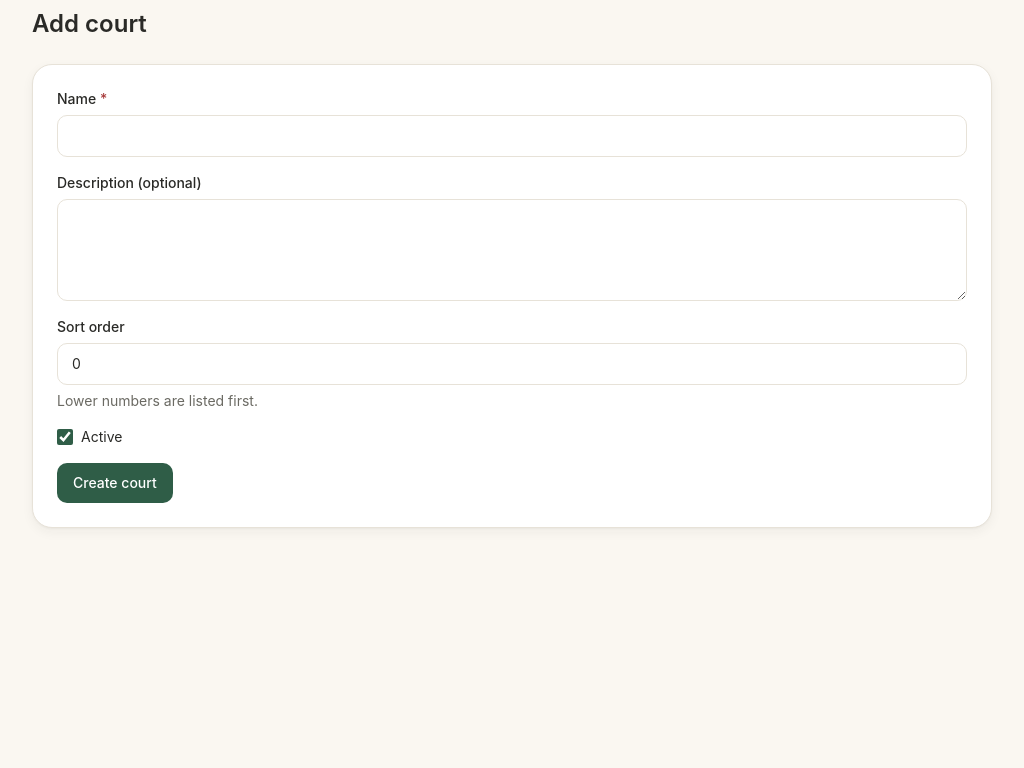
it: CourtFormPage — create mode › surfaces a description field error inline instead of dropping it in a generic banner
Type "New Court" into the field labelled "Name".
click(512, 136); type("New Court")  # box [57,115,967,157]
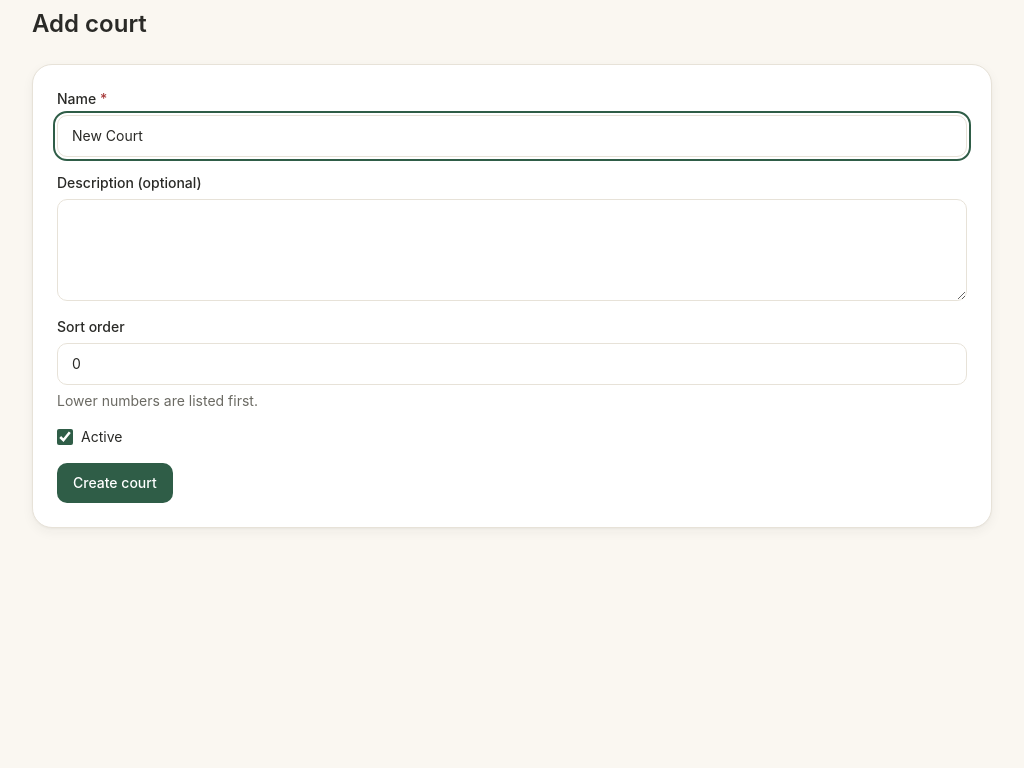
Click the button "Create court".
click(115, 483)  # box [57,463,173,503]
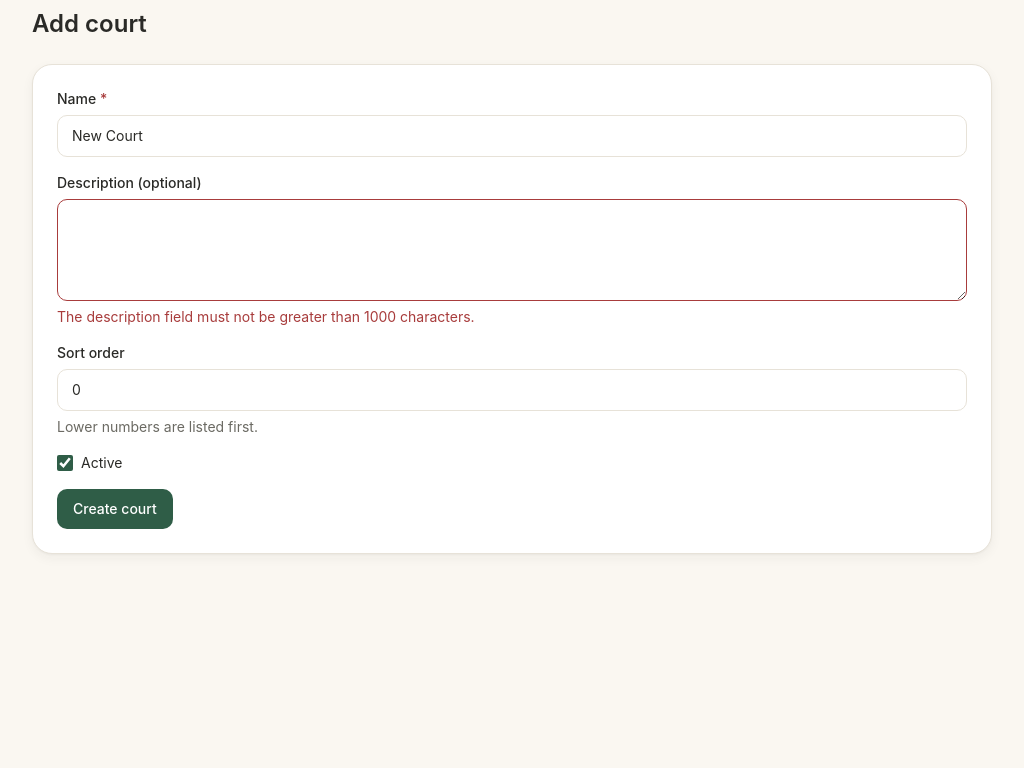
Expected: the text "The description field must not be greater than 1000 characters." is shown, [57,308,475,325]
